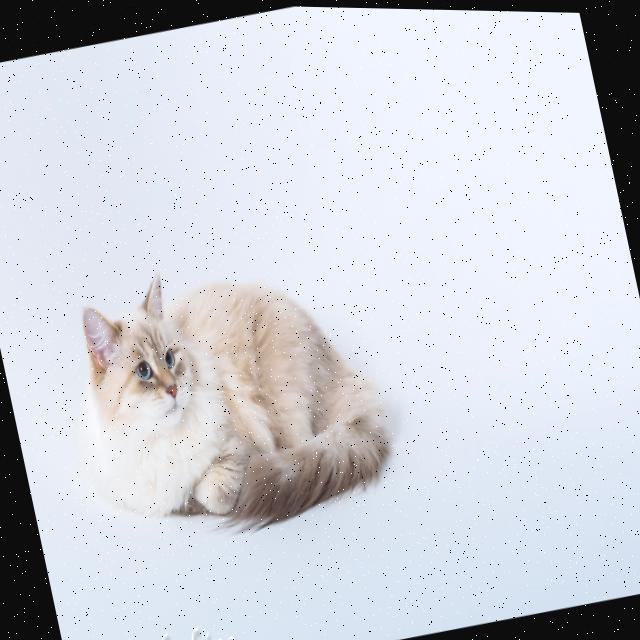Neva Masquerade: (39, 222, 409, 563)
